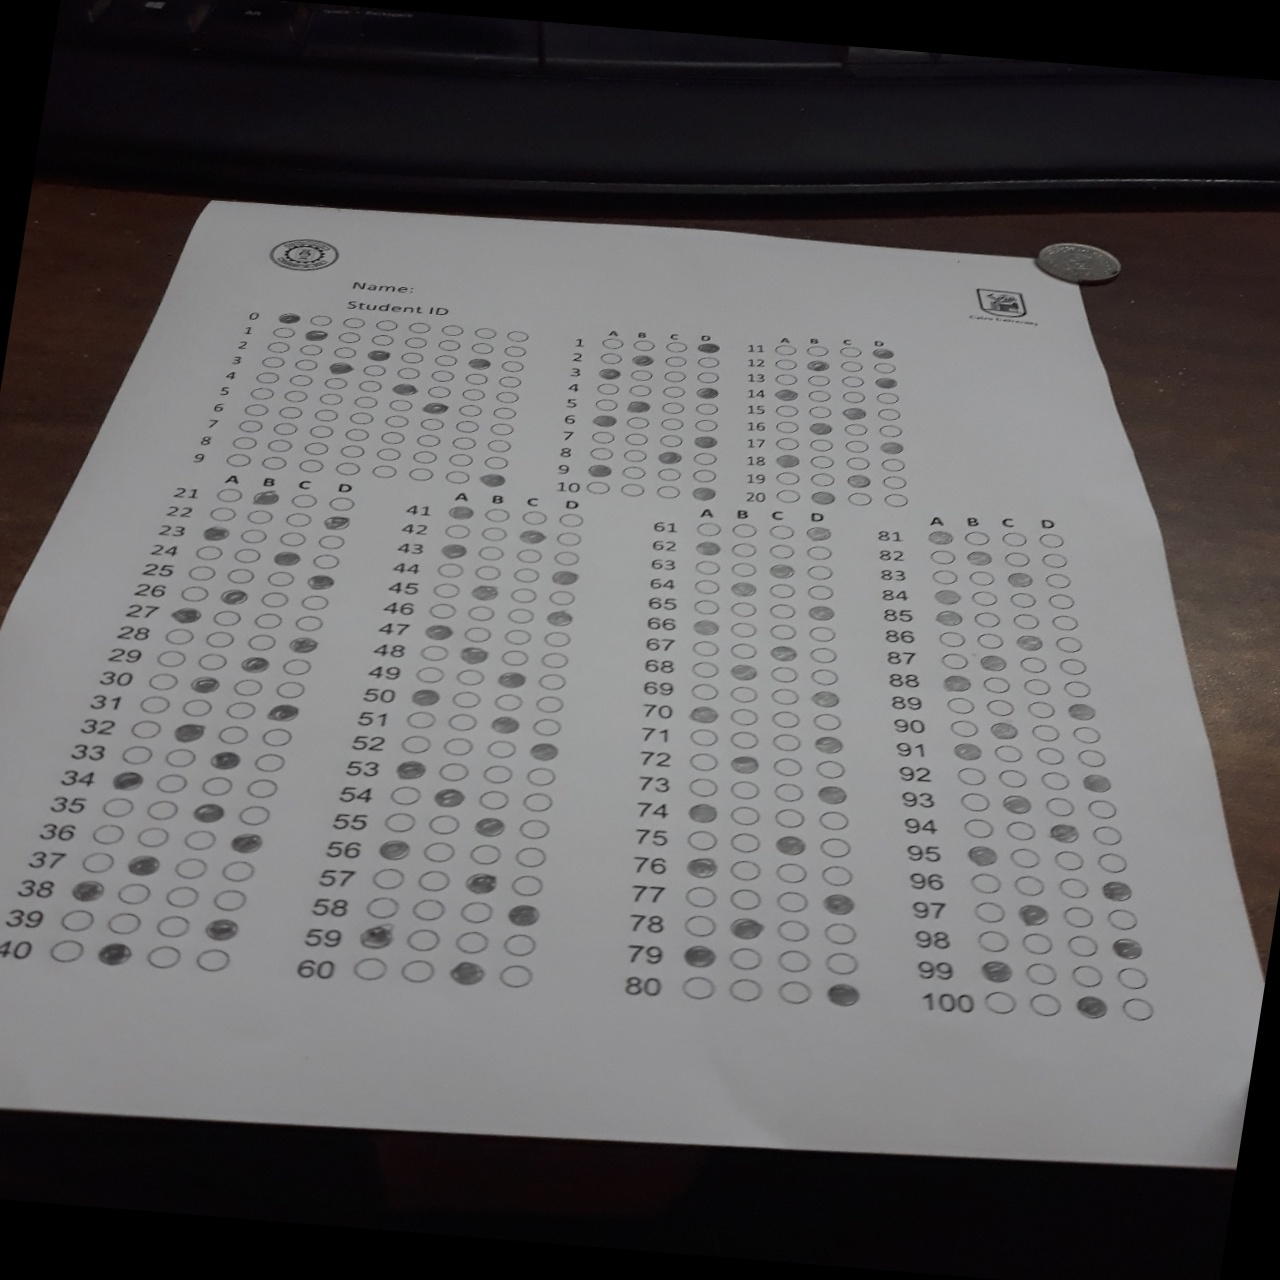not-c: (772, 887, 811, 914), (79, 847, 117, 874), (209, 885, 247, 912), (409, 896, 448, 922), (523, 787, 561, 813), (824, 951, 862, 978), (776, 946, 813, 973), (727, 976, 764, 1003), (821, 919, 858, 946), (147, 944, 184, 971), (48, 938, 86, 965), (57, 907, 95, 934), (102, 908, 139, 935), (515, 842, 552, 869), (515, 815, 552, 842), (727, 856, 765, 881), (163, 883, 202, 908), (399, 958, 437, 983), (501, 932, 539, 958), (468, 840, 506, 866), (418, 839, 457, 865), (679, 884, 719, 908), (1027, 992, 1063, 1019), (981, 989, 1017, 1016), (776, 978, 812, 1005), (679, 974, 715, 1001), (727, 946, 763, 973), (774, 915, 810, 942), (219, 857, 257, 883), (117, 880, 155, 906), (498, 962, 536, 988), (455, 928, 492, 954), (363, 894, 401, 920), (429, 813, 467, 839), (382, 808, 420, 833), (472, 787, 510, 812), (726, 886, 764, 911), (680, 913, 719, 938), (771, 860, 810, 885), (350, 956, 389, 981), (459, 900, 498, 925), (1121, 996, 1156, 1023), (150, 913, 188, 938), (195, 948, 232, 973), (406, 926, 443, 951), (372, 865, 409, 890), (417, 867, 455, 892), (506, 872, 544, 897), (1115, 966, 1150, 990), (727, 831, 763, 855), (686, 828, 722, 851), (816, 836, 853, 858), (815, 808, 852, 830), (810, 757, 847, 779), (1055, 876, 1090, 899), (1058, 905, 1094, 928), (1103, 906, 1138, 930), (770, 757, 806, 779), (686, 750, 722, 772), (1013, 873, 1047, 897), (968, 871, 1002, 894), (1065, 933, 1099, 956), (1020, 931, 1054, 954), (1069, 964, 1103, 987), (976, 930, 1012, 952), (772, 806, 808, 829), (727, 805, 762, 828), (687, 777, 722, 799), (771, 781, 806, 803), (273, 679, 306, 702), (223, 697, 256, 721), (972, 900, 1006, 922), (1024, 962, 1058, 985), (821, 864, 855, 886), (173, 857, 207, 879), (726, 779, 761, 801), (139, 693, 172, 715), (121, 743, 154, 765), (154, 771, 186, 794), (961, 818, 995, 839), (493, 690, 527, 712), (538, 648, 572, 669), (503, 602, 537, 624), (475, 540, 509, 561), (428, 579, 462, 600), (1097, 851, 1129, 873), (277, 527, 308, 550), (259, 726, 291, 748), (183, 828, 215, 850), (1039, 770, 1071, 791), (1042, 796, 1075, 817), (1051, 850, 1084, 871), (1008, 847, 1041, 869), (218, 724, 251, 745), (130, 717, 163, 738), (162, 745, 195, 767), (202, 775, 234, 796), (256, 751, 288, 772), (93, 823, 125, 844), (101, 796, 134, 817), (147, 799, 179, 821), (389, 784, 422, 805), (525, 765, 558, 787), (485, 738, 518, 760), (530, 717, 563, 738), (538, 670, 571, 692), (501, 624, 533, 645), (513, 564, 546, 585), (1005, 821, 1039, 840), (399, 734, 433, 754), (438, 761, 472, 781), (481, 763, 515, 783), (445, 712, 479, 731), (535, 695, 568, 715), (472, 561, 506, 581), (1070, 724, 1102, 745), (959, 791, 990, 812), (1091, 824, 1123, 845), (181, 697, 212, 719), (239, 806, 271, 828), (139, 825, 171, 846), (1074, 748, 1107, 768), (1032, 745, 1064, 765), (990, 743, 1023, 763), (442, 736, 475, 756), (404, 708, 437, 728), (449, 688, 482, 708), (496, 647, 529, 667), (512, 544, 545, 564), (437, 560, 470, 580), (769, 731, 799, 753), (246, 778, 277, 799), (1029, 722, 1061, 742), (955, 765, 987, 785), (1084, 798, 1116, 818), (148, 670, 179, 690), (506, 586, 539, 605), (983, 697, 1014, 717), (998, 768, 1028, 788), (729, 730, 760, 750), (811, 710, 842, 730), (769, 685, 799, 704), (729, 685, 760, 704), (765, 542, 797, 560), (325, 495, 356, 513), (196, 652, 227, 670), (462, 625, 493, 644), (465, 602, 497, 621), (975, 631, 1005, 651), (1021, 676, 1050, 696), (949, 719, 979, 738), (730, 707, 760, 727), (772, 708, 802, 728), (689, 659, 719, 679), (452, 667, 485, 685), (550, 549, 583, 566), (938, 629, 968, 648), (945, 696, 975, 715), (692, 597, 722, 615), (181, 584, 211, 602), (267, 570, 298, 588), (257, 590, 287, 608), (282, 658, 313, 676), (441, 520, 471, 539), (767, 583, 798, 600), (282, 511, 314, 529), (311, 551, 342, 568), (298, 594, 329, 612), (250, 610, 281, 627), (425, 601, 457, 619), (418, 644, 450, 661), (542, 628, 573, 646), (481, 504, 512, 522), (940, 652, 969, 670), (689, 727, 719, 745), (690, 681, 720, 700), (692, 639, 721, 658), (805, 624, 835, 642), (730, 520, 760, 539), (193, 543, 223, 561), (294, 613, 324, 632), (246, 632, 275, 651), (553, 530, 583, 549), (479, 523, 509, 542), (1024, 701, 1055, 719), (769, 666, 799, 683), (810, 668, 840, 686), (729, 620, 760, 638), (765, 602, 796, 620), (729, 559, 760, 577), (804, 563, 835, 580), (804, 543, 835, 560), (729, 542, 760, 559), (693, 519, 723, 537), (188, 563, 218, 580), (211, 610, 241, 627), (227, 567, 258, 585), (236, 526, 266, 544), (245, 508, 275, 525), (315, 532, 346, 550), (232, 679, 263, 696), (415, 666, 445, 683), (519, 508, 550, 525), (1058, 658, 1087, 676), (1039, 551, 1070, 567), (1046, 592, 1075, 610), (982, 675, 1012, 693), (1062, 680, 1091, 697), (805, 583, 835, 600), (694, 558, 723, 576), (768, 524, 797, 542), (288, 491, 318, 509), (554, 510, 584, 527), (960, 529, 990, 545), (1042, 572, 1073, 588), (729, 642, 760, 659), (808, 647, 838, 663), (768, 622, 798, 639), (163, 629, 193, 646), (155, 649, 185, 666), (549, 588, 579, 605), (692, 577, 720, 594), (234, 545, 263, 563), (206, 629, 234, 647), (1036, 532, 1065, 549), (999, 531, 1028, 547), (1002, 551, 1032, 567), (972, 611, 1001, 627), (1054, 635, 1083, 652), (1017, 655, 1047, 672), (729, 600, 758, 617), (772, 486, 802, 503), (451, 434, 481, 450), (926, 549, 956, 564), (930, 568, 960, 584), (967, 570, 998, 585), (1049, 614, 1080, 629), (971, 590, 999, 606), (459, 384, 488, 401), (377, 429, 406, 445), (243, 402, 271, 418), (1009, 592, 1039, 607), (1012, 613, 1041, 628), (257, 353, 286, 368), (302, 441, 329, 457), (324, 374, 350, 390), (287, 372, 314, 388), (270, 324, 297, 340), (663, 338, 692, 353), (486, 421, 515, 436), (444, 470, 472, 485), (375, 445, 403, 461), (382, 414, 410, 429), (386, 396, 414, 411), (369, 332, 397, 347), (318, 389, 346, 404), (292, 356, 320, 372), (281, 389, 309, 404), (881, 474, 907, 490), (629, 367, 655, 383), (847, 491, 874, 506), (881, 492, 908, 508), (845, 455, 872, 470), (876, 423, 903, 438), (842, 389, 869, 404), (772, 341, 799, 356), (621, 465, 648, 481), (624, 448, 651, 463), (624, 415, 651, 430), (482, 454, 509, 469), (455, 418, 482, 434), (456, 402, 483, 417), (413, 450, 440, 465), (370, 463, 397, 478), (401, 333, 428, 348), (406, 318, 433, 333), (348, 410, 375, 425), (343, 425, 370, 441), (339, 443, 366, 458), (297, 457, 324, 472), (309, 423, 336, 438), (314, 406, 341, 421), (340, 314, 367, 329), (297, 341, 324, 356), (272, 422, 299, 437), (268, 436, 295, 451), (264, 338, 291, 353), (210, 505, 237, 520), (485, 438, 513, 452), (445, 452, 474, 467), (394, 366, 422, 380), (334, 459, 362, 474), (772, 470, 798, 485), (775, 436, 801, 451), (809, 437, 835, 452), (876, 407, 901, 422), (805, 388, 831, 403), (774, 403, 799, 418), (656, 484, 682, 499), (619, 481, 645, 496), (659, 416, 685, 431), (660, 400, 686, 415), (661, 383, 687, 399), (627, 382, 653, 397), (587, 445, 613, 461), (599, 334, 625, 349), (591, 428, 617, 443), (874, 392, 901, 406), (624, 431, 651, 445), (417, 417, 444, 431), (414, 433, 441, 447), (406, 467, 433, 481), (400, 350, 427, 365), (372, 316, 399, 331), (361, 363, 388, 377), (358, 377, 384, 392), (353, 395, 380, 409), (332, 343, 359, 358), (336, 329, 363, 343), (306, 311, 333, 325), (277, 404, 304, 418), (261, 455, 288, 469), (224, 452, 251, 467), (230, 435, 257, 449), (236, 418, 263, 433), (248, 384, 275, 399), (253, 370, 280, 384), (215, 486, 241, 501), (880, 457, 906, 471), (809, 454, 835, 468), (809, 472, 835, 486), (843, 423, 869, 437), (774, 420, 799, 434), (774, 372, 799, 386), (805, 343, 831, 358), (840, 358, 866, 372), (805, 374, 833, 387), (694, 418, 720, 433), (656, 467, 682, 481), (658, 433, 683, 447), (662, 369, 688, 383), (662, 354, 688, 368), (594, 396, 620, 410), (594, 381, 620, 395), (599, 350, 625, 365), (474, 325, 499, 339), (806, 406, 833, 418), (772, 358, 799, 370), (836, 345, 863, 358), (696, 356, 723, 369), (695, 370, 722, 383), (694, 402, 721, 415), (692, 468, 719, 481), (427, 384, 451, 399), (844, 440, 870, 452), (629, 338, 655, 350), (584, 481, 610, 493), (440, 324, 465, 336), (871, 361, 899, 373), (469, 341, 493, 354), (436, 338, 461, 350), (435, 352, 459, 365), (429, 369, 454, 382), (839, 375, 866, 387), (692, 452, 719, 464), (465, 372, 489, 384), (504, 345, 526, 358), (502, 359, 524, 372), (499, 375, 523, 387), (495, 390, 518, 402), (493, 407, 517, 418), (506, 329, 529, 341)
taken-c: (681, 942, 720, 968), (683, 856, 723, 880), (728, 915, 765, 940), (1111, 937, 1145, 964), (821, 891, 856, 917), (686, 799, 721, 825), (203, 917, 238, 942), (358, 924, 393, 949), (472, 813, 508, 839), (505, 900, 540, 926), (395, 757, 431, 782), (450, 960, 486, 985), (377, 836, 411, 862), (467, 870, 501, 896), (527, 738, 561, 764), (826, 982, 862, 1007), (96, 941, 131, 966), (981, 958, 1014, 983), (1099, 878, 1133, 903), (433, 784, 467, 809), (1016, 901, 1049, 926), (965, 843, 999, 866), (229, 831, 263, 855), (774, 833, 809, 856), (70, 879, 105, 901), (1077, 994, 1109, 1019), (192, 802, 227, 823), (686, 703, 719, 726), (815, 784, 849, 805), (172, 723, 206, 744), (209, 749, 243, 770), (113, 770, 147, 791), (728, 753, 760, 775), (440, 539, 471, 561), (411, 685, 442, 707), (497, 667, 527, 689), (545, 606, 576, 628), (125, 855, 159, 874), (728, 662, 760, 683), (692, 617, 723, 638), (728, 578, 760, 599), (457, 644, 489, 665), (469, 581, 501, 602), (812, 733, 843, 754), (490, 714, 520, 735), (424, 621, 455, 642), (551, 566, 581, 587), (1082, 772, 1114, 792), (1005, 568, 1036, 588), (809, 687, 840, 707), (768, 644, 799, 663), (934, 607, 965, 627), (1001, 794, 1032, 813), (964, 549, 995, 567), (925, 527, 956, 546), (952, 742, 983, 761), (768, 561, 799, 580), (805, 604, 837, 622), (1065, 702, 1096, 721), (1015, 632, 1046, 651), (934, 587, 965, 606), (978, 653, 1008, 672), (988, 720, 1019, 738), (1049, 824, 1080, 843), (808, 488, 838, 506), (169, 606, 200, 624), (941, 673, 971, 692), (189, 678, 222, 694), (694, 540, 724, 558), (878, 440, 908, 457), (268, 703, 299, 721), (238, 656, 270, 673), (804, 524, 833, 542), (772, 452, 802, 470), (202, 523, 231, 540), (271, 550, 300, 567), (871, 374, 899, 392), (251, 489, 279, 506), (447, 504, 475, 522), (519, 527, 547, 545), (220, 586, 247, 604), (327, 358, 355, 374), (302, 327, 331, 343), (290, 636, 318, 653), (806, 421, 836, 436), (421, 399, 448, 415), (308, 573, 335, 590), (468, 355, 493, 372), (845, 474, 872, 489), (392, 381, 418, 396), (324, 515, 350, 530), (587, 462, 612, 478), (839, 406, 867, 420), (597, 367, 622, 382), (274, 308, 300, 324), (772, 388, 799, 402), (481, 471, 505, 486), (806, 358, 832, 372), (694, 340, 720, 354), (694, 384, 720, 399), (694, 435, 720, 449), (690, 486, 716, 501), (658, 450, 683, 464), (629, 352, 655, 366), (591, 413, 617, 427), (366, 348, 389, 363), (872, 347, 897, 361), (626, 399, 651, 413)
